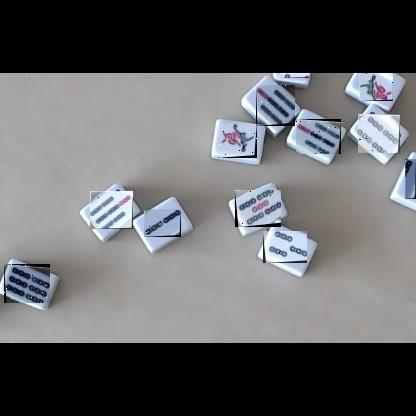1s: (217, 124, 257, 158), (359, 73, 393, 101)
2s: (144, 209, 181, 237), (405, 159, 416, 199)
3s: (263, 231, 307, 263)
4s: (358, 114, 400, 153)
5s: (235, 190, 281, 227)
6s: (4, 264, 50, 303)
7s: (90, 191, 133, 229), (256, 85, 295, 126), (296, 119, 341, 154)
8s: (279, 73, 309, 78)
